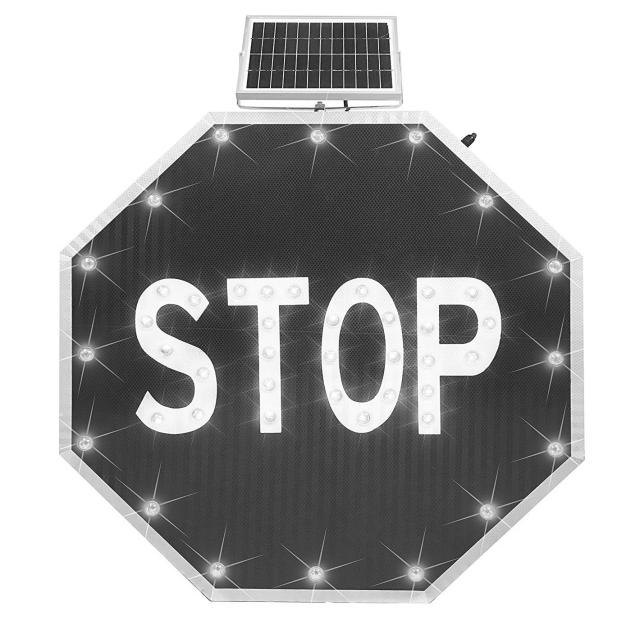Stop-sign: (56, 101, 600, 628)
